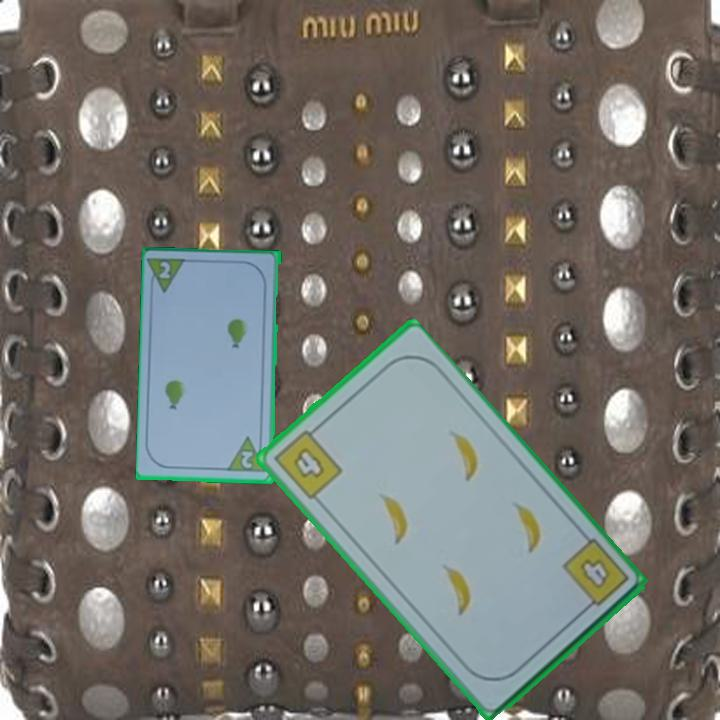2p: (156, 258, 174, 282), (239, 448, 256, 471)
4b: (270, 421, 346, 503), (558, 535, 632, 617)
